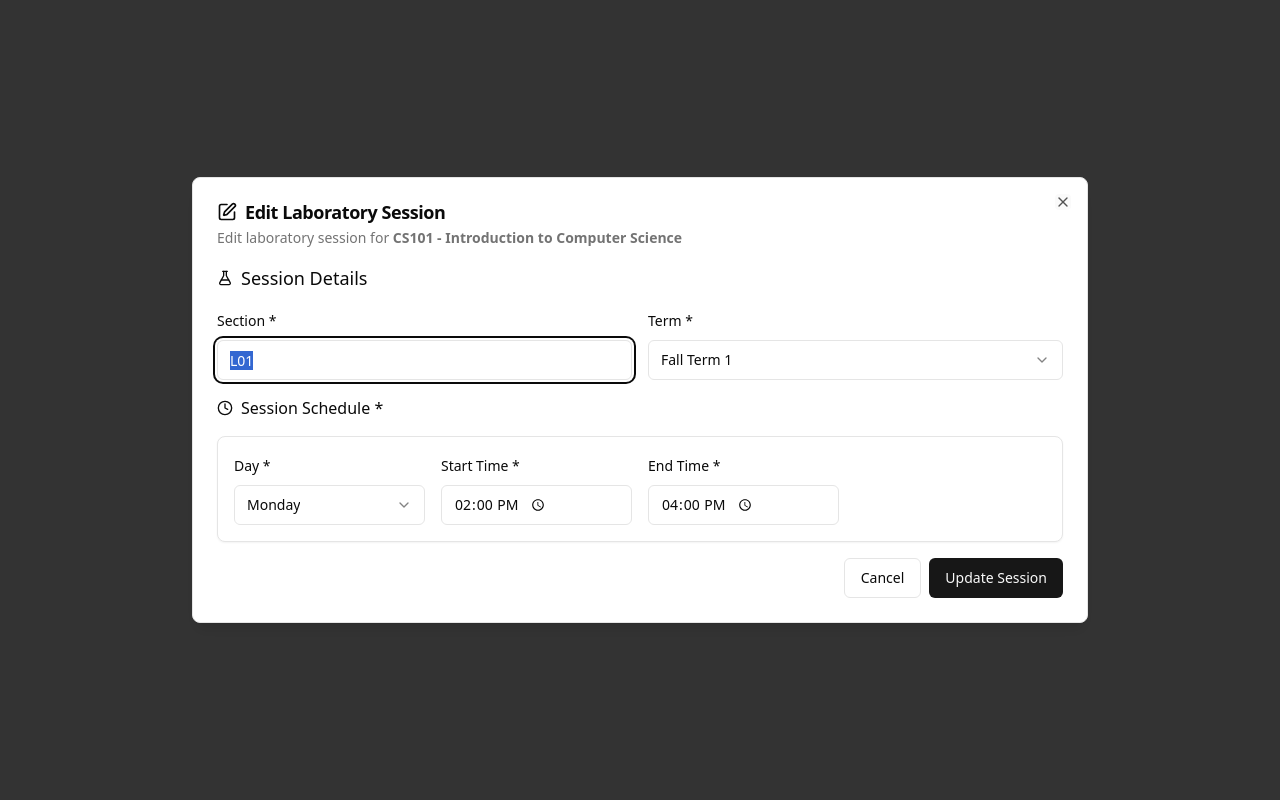
it: EditSessionModal › shows validation errors for empty required fields
// Clear the section field
Clear the field showing "L01" at (424, 360), box [217, 340, 632, 380]
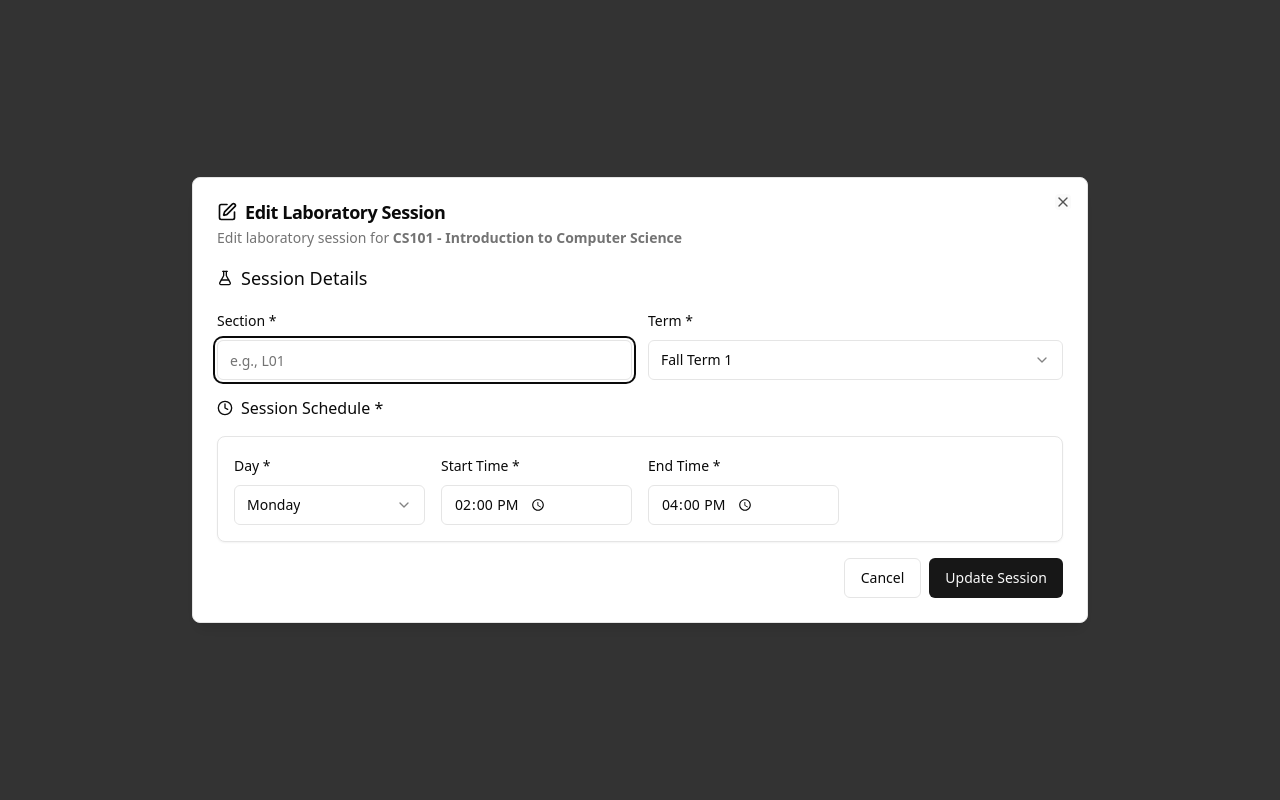
Click the button "Update Session" at (996, 578), box [929, 558, 1063, 598]
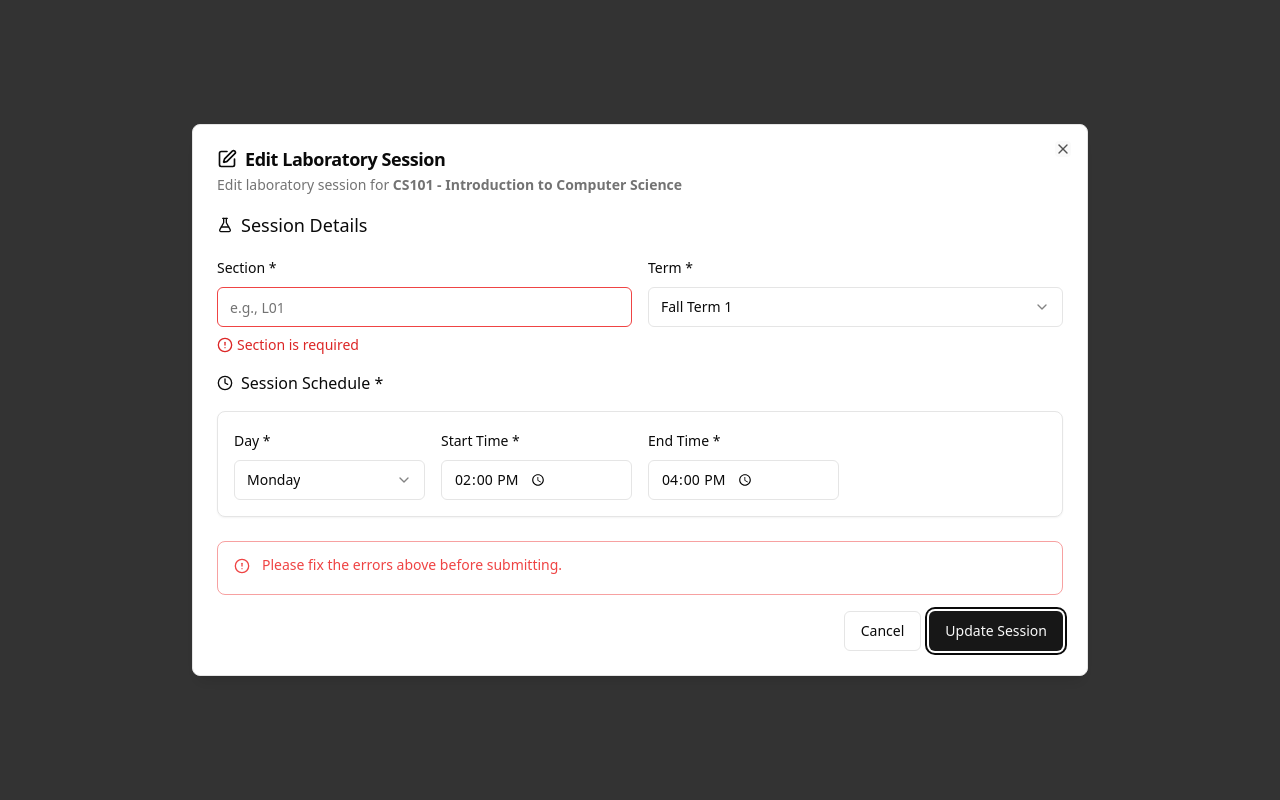
Check: the text "Section is required" is shown, box [217, 335, 359, 354]
